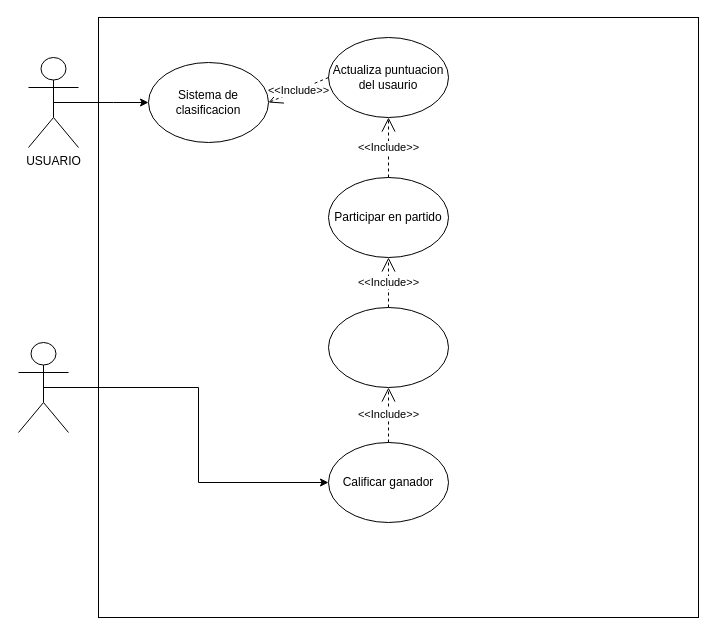
Some shapes in this 716 by 635 pixel diagram are drawn without their labels. Here are the shapes that lost their labels. From the top down, the centre of each, then its label:
point 388,347: Guardar resultados del partido
point 43,387: SISTEMA
